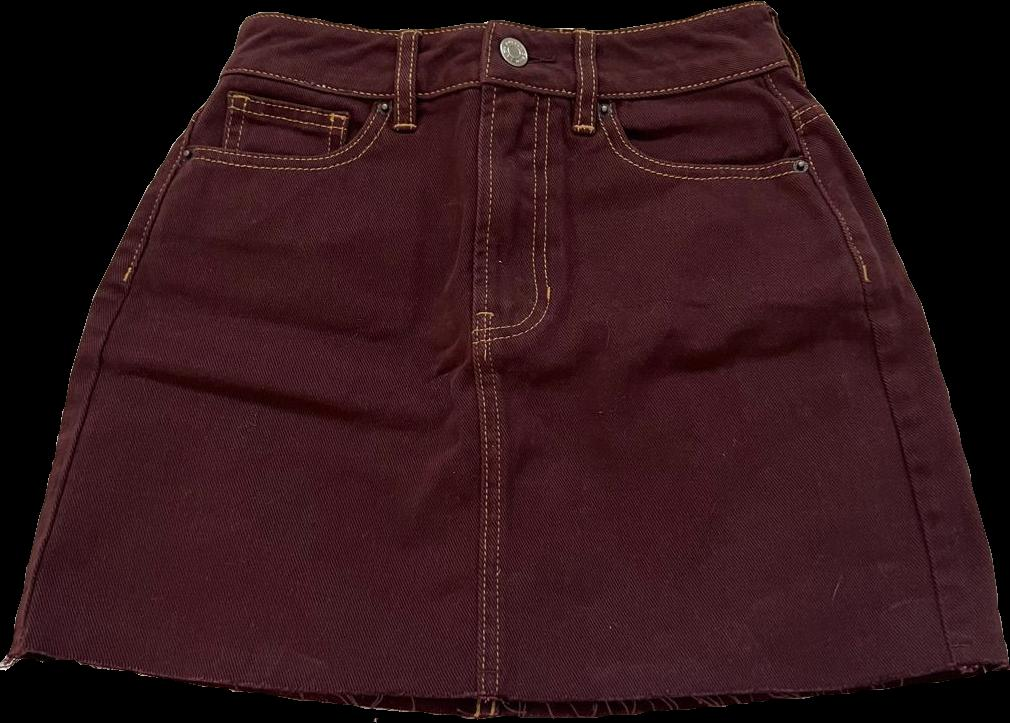Hemline: (4, 645, 1005, 702)
Waistline: (216, 63, 795, 99), (236, 3, 766, 38)
